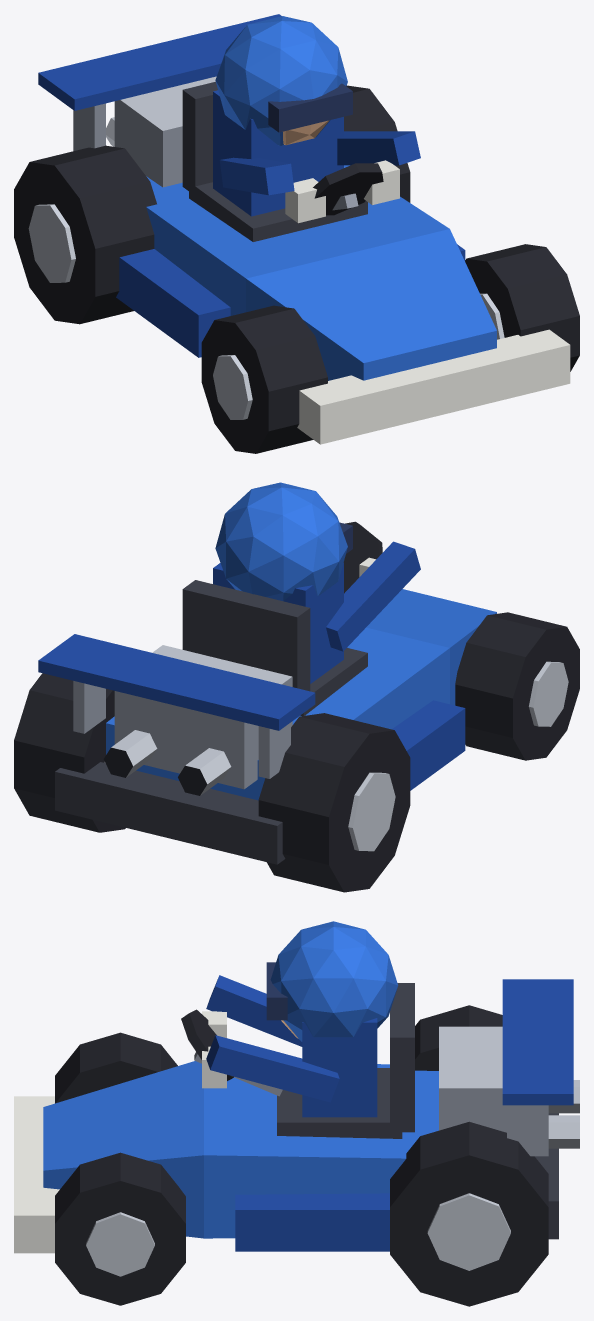
File: kart_blue.glb
3 views of the same model, one above another, from view 1: azimuth 30°, elevation 25°; view 2: azimuth 150°, elevation 25°; view 3: azimuth 270°, elevation 25° (orthographic). The views are drawn at different scales.
Visible parts, largest first — view 1: kart_blue; view 2: kart_blue; view 3: kart_blue.
Part boxes in pixels (left/top/right/bottom): kart_blue: left=14, top=14, right=579, bottom=453; kart_blue: left=14, top=482, right=579, bottom=892; kart_blue: left=14, top=921, right=579, bottom=1306.
Size of the model in its own units: 1.75 by 1.61 by 2.71.
Materials: 1 (1 with a texture image).
